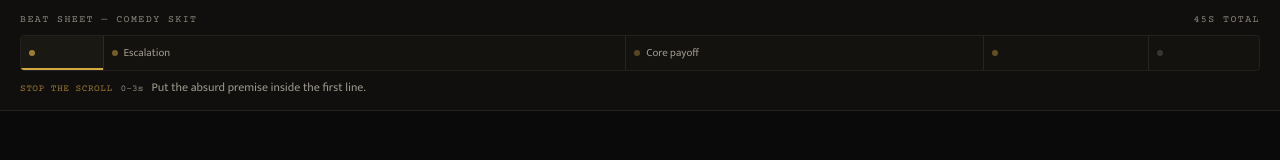
Test: choosing a beat swaps the prose
The width and height of the screenshot is (1280, 160).
Click the tab "Escalation".
click(147, 53)  # box [104,36,626,70]
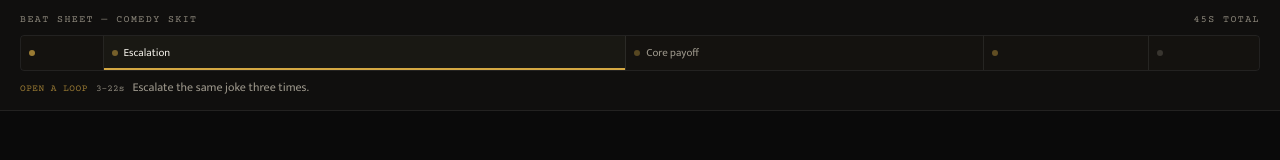
Result: the text "Escalate the same joke three times." is shown at [132,79,309,96]
Result: the text "absurd premise" is gone
